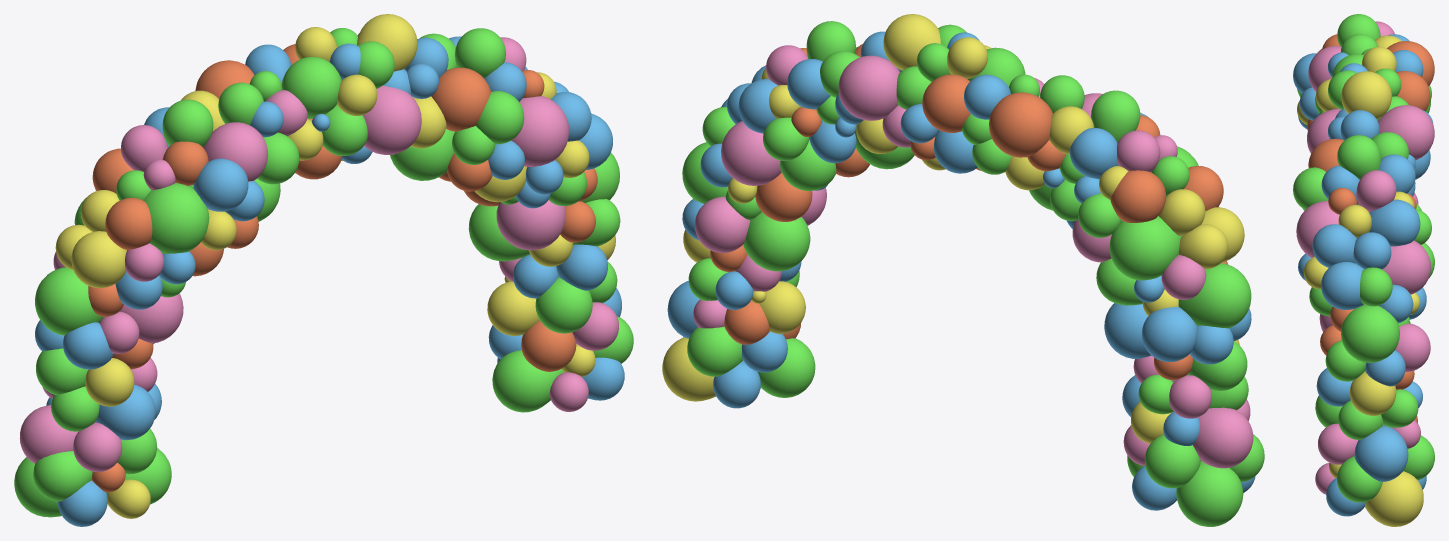
The model's file is ball-balloon-arch.glb.
The picture shows the model from 3 angles, left to right: view 1: azimuth 30°, elevation 25°; view 2: azimuth 150°, elevation 25°; view 3: azimuth 270°, elevation 25°; orthographic projection. The views are drawn at different scales.
Visible parts, largest first — view 1: SM_Greenballoon, SM_Blueballoon, SM_Purpleballoon, SM_Yellowballoon, SM_Orangeballoon; view 2: SM_Greenballoon, SM_Blueballoon, SM_Purpleballoon, SM_Yellowballoon, SM_Orangeballoon; view 3: SM_Blueballoon, SM_Greenballoon, SM_Purpleballoon, SM_Yellowballoon, SM_Orangeballoon.
Boxes of the visible parts, <box> form: SM_Greenballoon: <box>14,28,633,517</box>; SM_Blueballoon: <box>35,36,624,526</box>; SM_Purpleballoon: <box>19,33,618,471</box>; SM_Yellowballoon: <box>55,14,615,518</box>; SM_Orangeballoon: <box>88,44,597,492</box>; SM_Greenballoon: <box>682,21,1264,526</box>; SM_Blueballoon: <box>667,31,1255,510</box>; SM_Purpleballoon: <box>693,45,1253,468</box>; SM_Yellowballoon: <box>662,14,1244,443</box>; SM_Orangeballoon: <box>710,44,1228,460</box>; SM_Blueballoon: <box>1293,34,1433,516</box>; SM_Greenballoon: <box>1293,14,1434,502</box>; SM_Purpleballoon: <box>1296,21,1434,494</box>; SM_Yellowballoon: <box>1297,35,1423,526</box>; SM_Orangeballoon: <box>1307,34,1434,425</box>.
Size of the model in its own units: 6.58 by 4.56 by 1.61.
